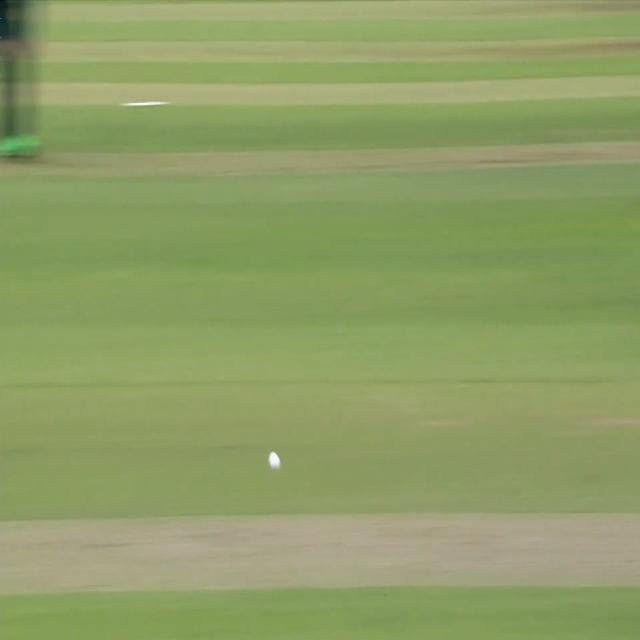ball: (263, 440, 288, 480)
